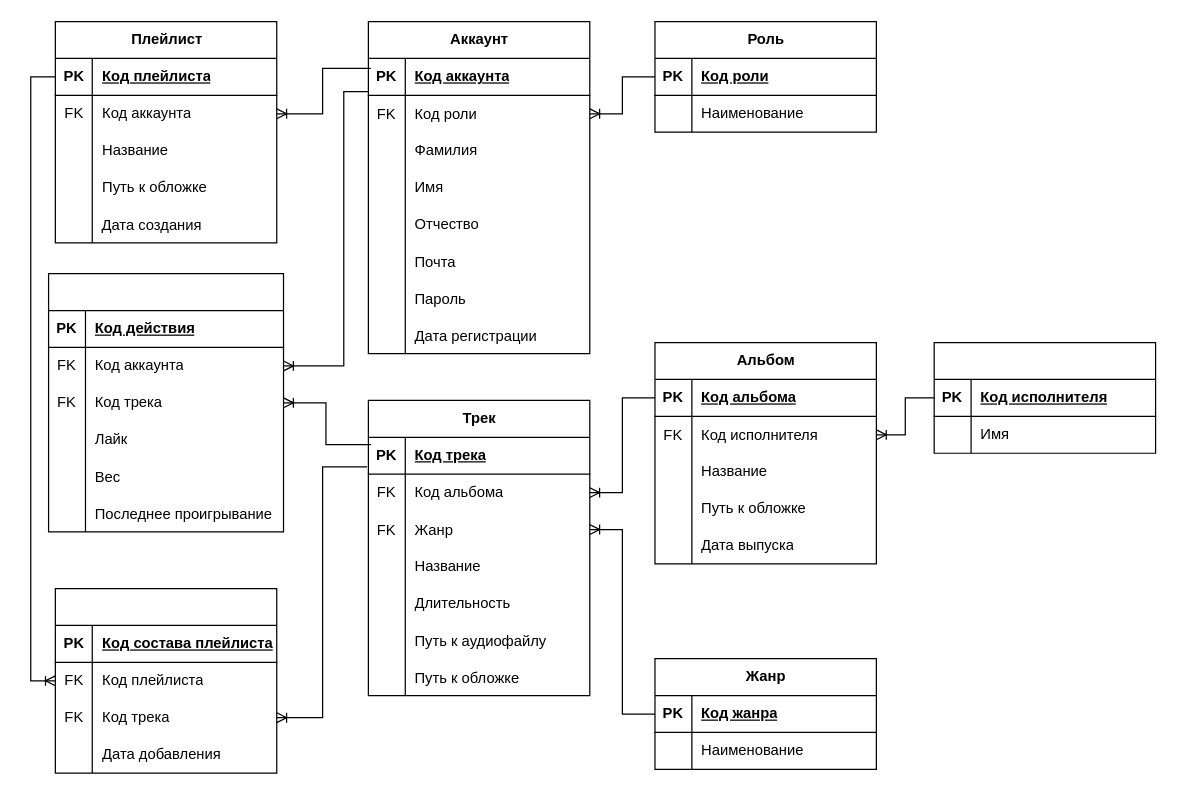
The diagram is 1177 pixels wide and 795 high, and some of its shapes have lost their labels. The box of each missing label's shape, as (x1, y1, x2, y2) in pixels:
Действие: (47, 272, 284, 532)
Исполнитель: (933, 341, 1156, 453)
Состав плейлиста: (54, 587, 277, 773)
